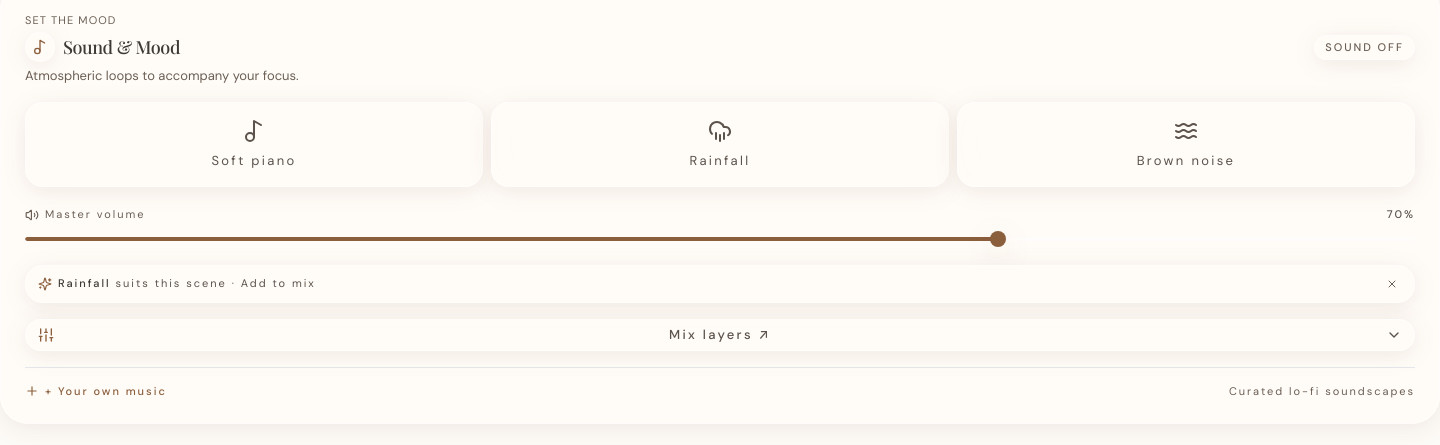
Test: SetTheMoodCard › dismissing scene suggestion hides it for the active scene
Click the button named "Dismiss ambient suggestion".
click(1392, 284)  # box [1382,274,1402,294]
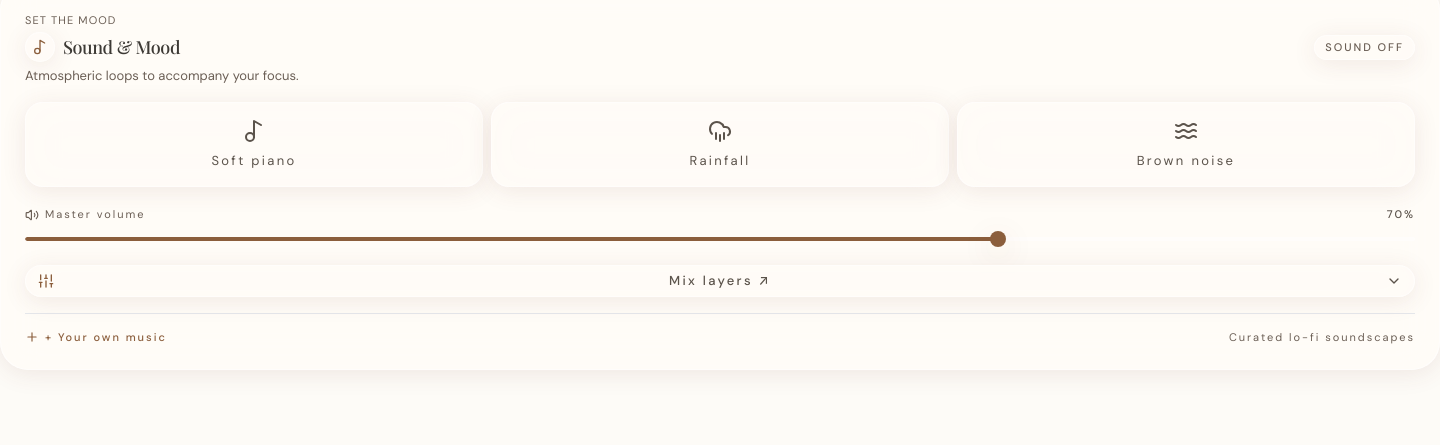
Check: the element with test id "scene-ambient-suggestion" is gone
